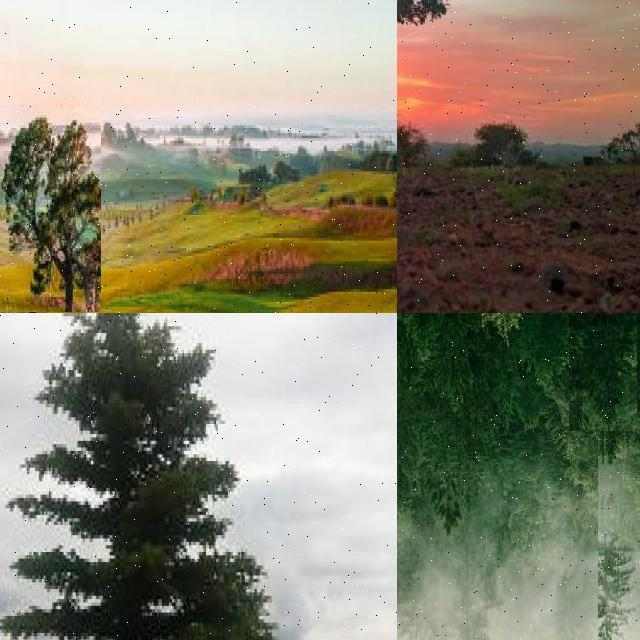tree: (0, 312, 309, 639), (0, 107, 101, 312), (430, 313, 488, 533), (598, 354, 640, 640), (396, 0, 456, 172), (569, 313, 637, 431), (604, 387, 640, 533), (397, 313, 443, 409), (604, 528, 640, 640), (592, 313, 640, 389), (606, 313, 640, 397), (616, 368, 640, 464), (614, 564, 640, 640), (397, 111, 429, 165)
